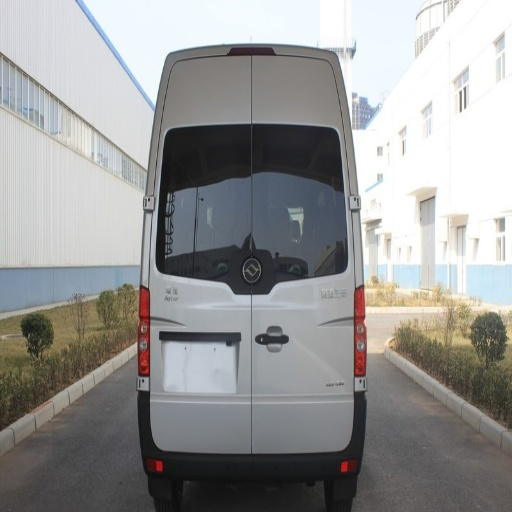back_bumper: (303, 160, 334, 184)
back_glass: (310, 222, 353, 308)
back_left_door: (138, 286, 149, 389)
back_left_light: (159, 266, 248, 475)
back_right_door: (356, 285, 366, 378)
front_left_light: (249, 264, 350, 482)
tailgate: (208, 171, 282, 222)
trunk: (155, 484, 181, 511)
